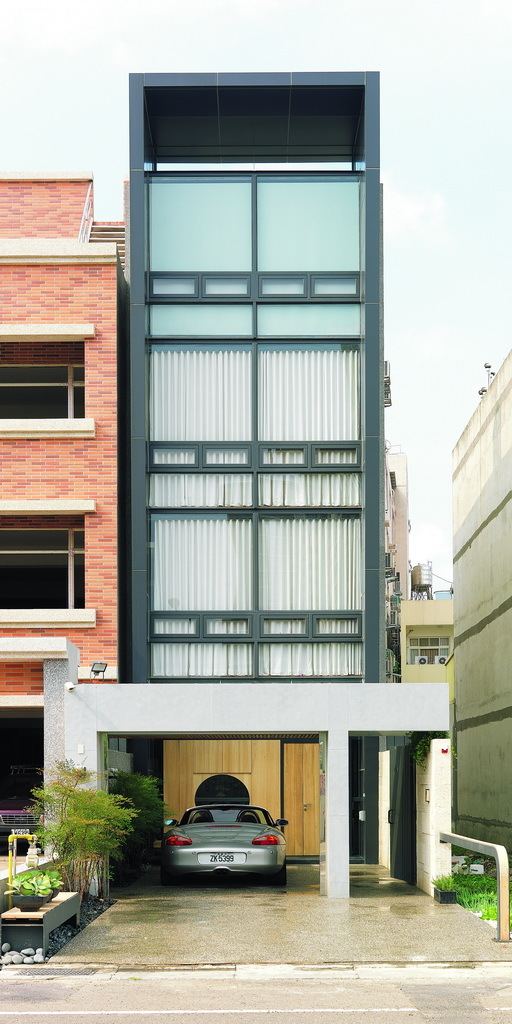mobil: (165, 810, 296, 879)
